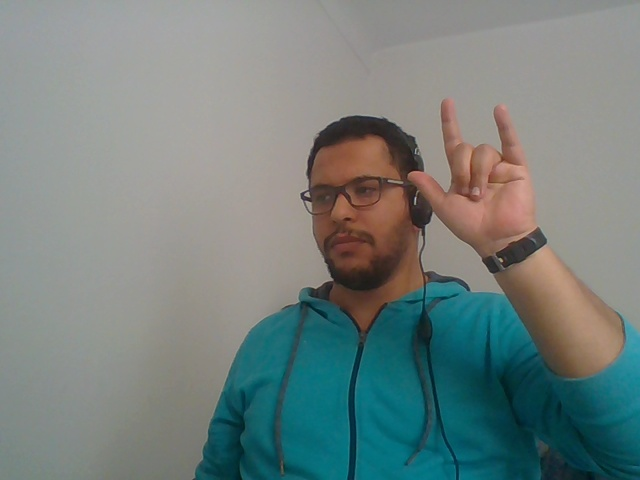iloveyou: (396, 81, 585, 292)
